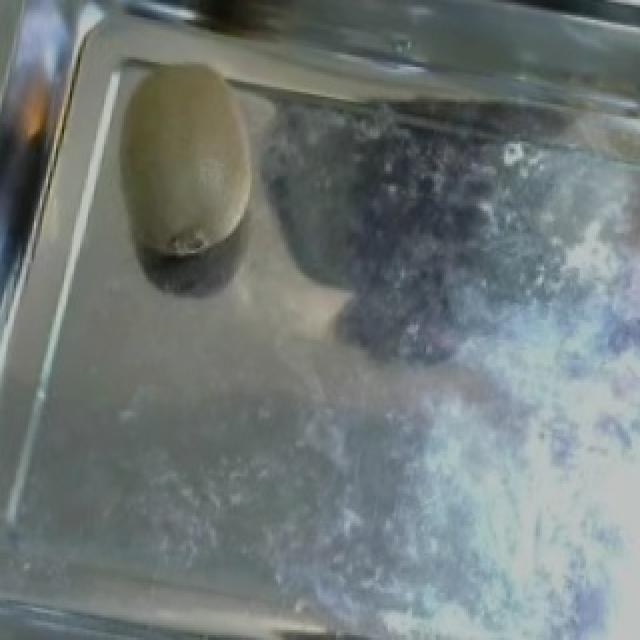Fruit: (84, 42, 290, 285)
